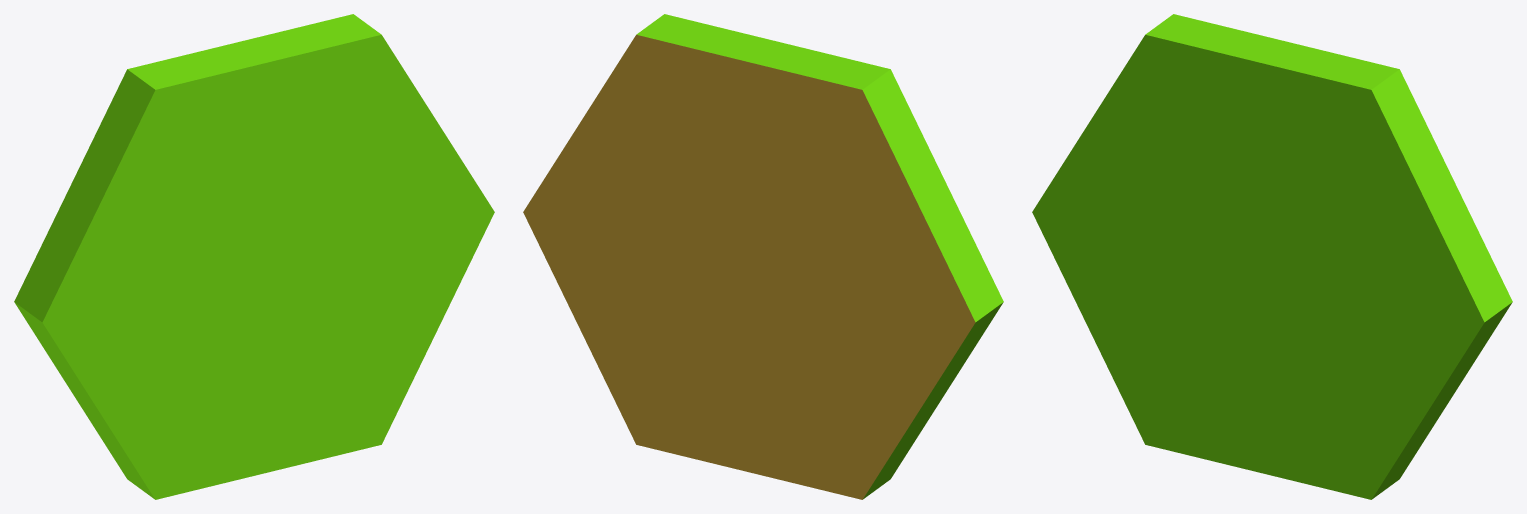
File: Hex.fbx
3 renders of one model, left to right at view 1: azimuth 30°, elevation 25°; view 2: azimuth 150°, elevation 25°; view 3: azimuth 330°, elevation 25°, orthographic.
Parts seen in each view (by area): view 1: Hex; view 2: Hex; view 3: Hex.
Boxes of the visible parts, box(x1,y1,x2,y2) form: Hex: box(14, 14, 494, 499); Hex: box(523, 14, 1003, 499); Hex: box(1032, 14, 1512, 499).
Size of the model in its own units: 2.08 by 1.8 by 0.225.
